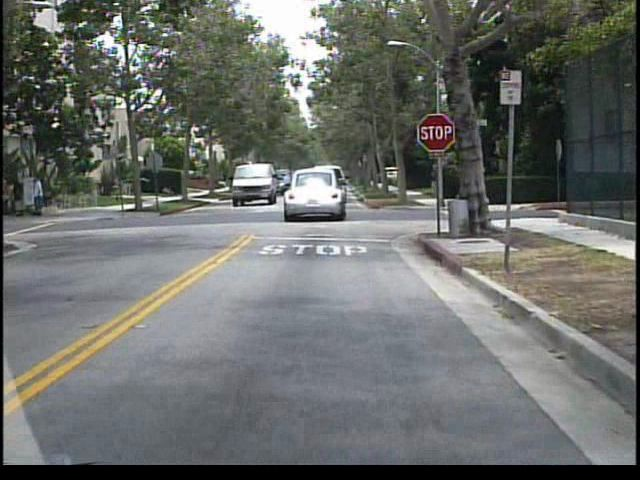person: (13, 172, 31, 219), (35, 170, 50, 218)
